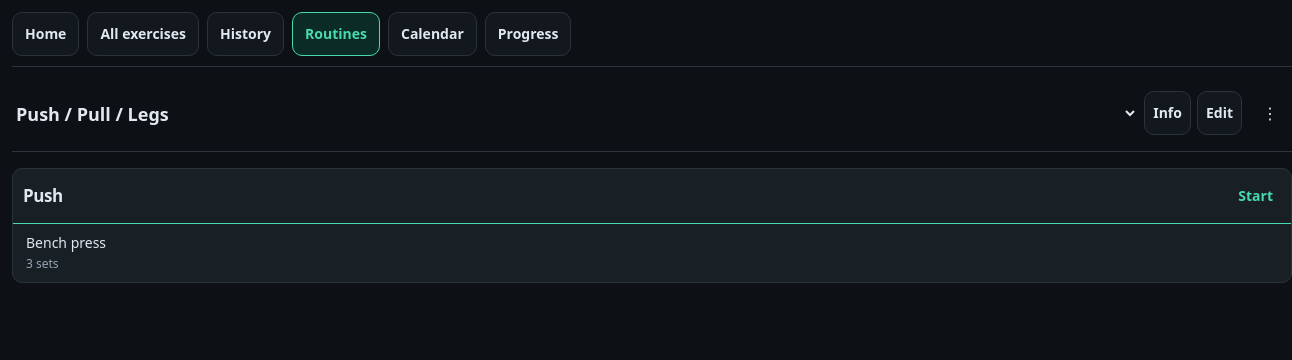
it: shows exercise management only in edit mode
Expected: the text "Bench press" is shown, 26,233 -> 106,252
Click the button with aria-label "Edit routine exercises": (1219, 113) 1197,91 -> 1242,135
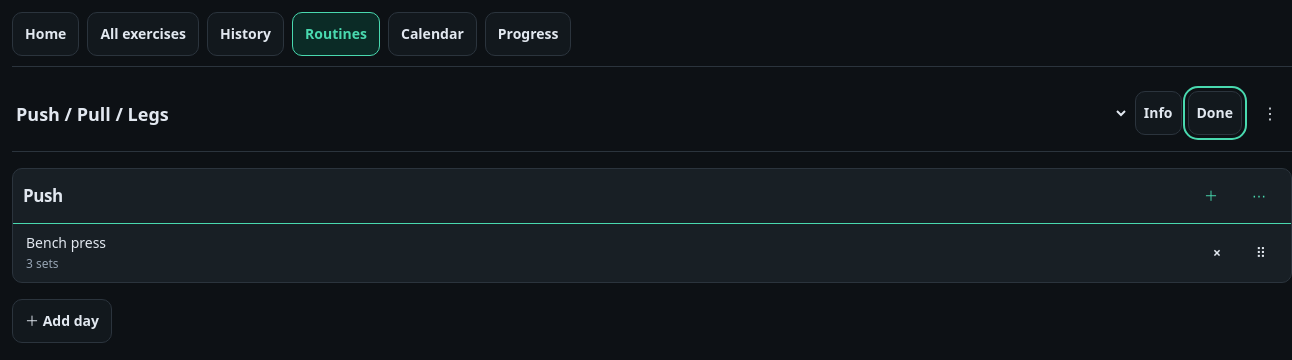
Expected: the button with aria-label "Options for Bench press" is shown, 24,226 -> 1195,280
Click the button with aria-label "Done editing routine": (1215, 113) 1188,91 -> 1242,135
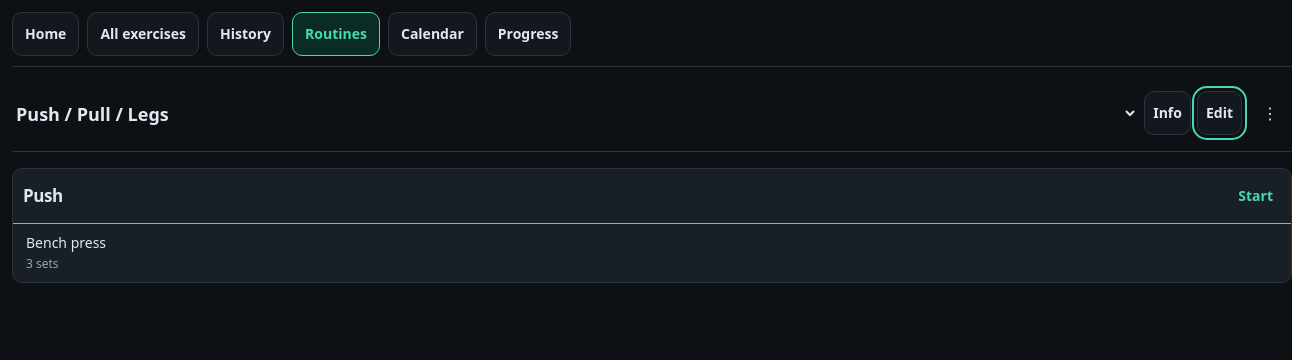
Expected: the button with aria-label "Start Push" is shown, 1230,174 -> 1281,218
